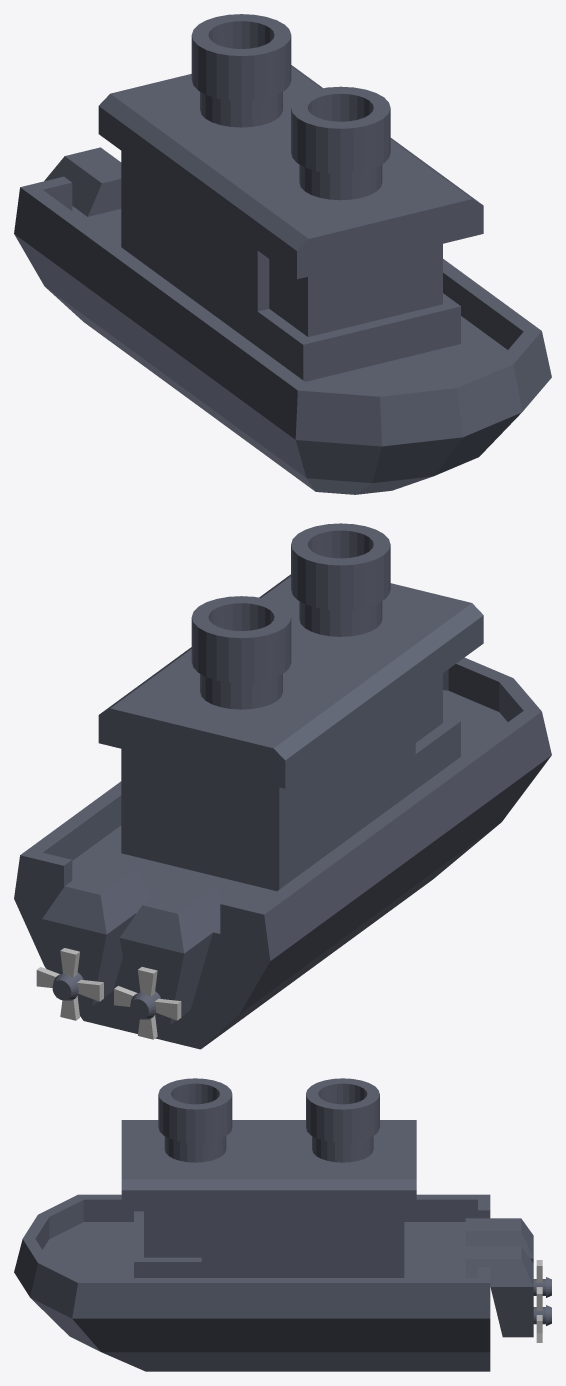
File: watercraftpack_024.glb
The picture shows the model from 3 angles, top to bottom: view 1: azimuth 30°, elevation 25°; view 2: azimuth 150°, elevation 25°; view 3: azimuth 270°, elevation 25°; orthographic projection. The views are drawn at different scales.
Visible parts, largest first — view 1: Mesh5 Group1 Model, Mesh1 Group2 Group1 Model; view 2: Mesh5 Group1 Model, Mesh1 Group2 Group1 Model, Mesh4 Group5 Group1 Model, Mesh3 Group4 Group1 Model, Mesh2 Group3 Group1 Model; view 3: Mesh5 Group1 Model, Mesh4 Group5 Group1 Model, Mesh1 Group2 Group1 Model.
Boxes of the visible parts, <box> form: Mesh5 Group1 Model: <box>14,14,551,494</box>; Mesh1 Group2 Group1 Model: <box>44,147,121,216</box>; Mesh5 Group1 Model: <box>14,523,551,1049</box>; Mesh1 Group2 Group1 Model: <box>119,878,221,1025</box>; Mesh4 Group5 Group1 Model: <box>42,859,150,1006</box>; Mesh3 Group4 Group1 Model: <box>36,948,103,1020</box>; Mesh2 Group3 Group1 Model: <box>114,967,181,1039</box>; Mesh5 Group1 Model: <box>14,1078,490,1371</box>; Mesh4 Group5 Group1 Model: <box>465,1246,551,1337</box>; Mesh1 Group2 Group1 Model: <box>465,1218,551,1297</box>.
Bounding box in the file's own units: 2.59 × 3.33 × 6.34.
